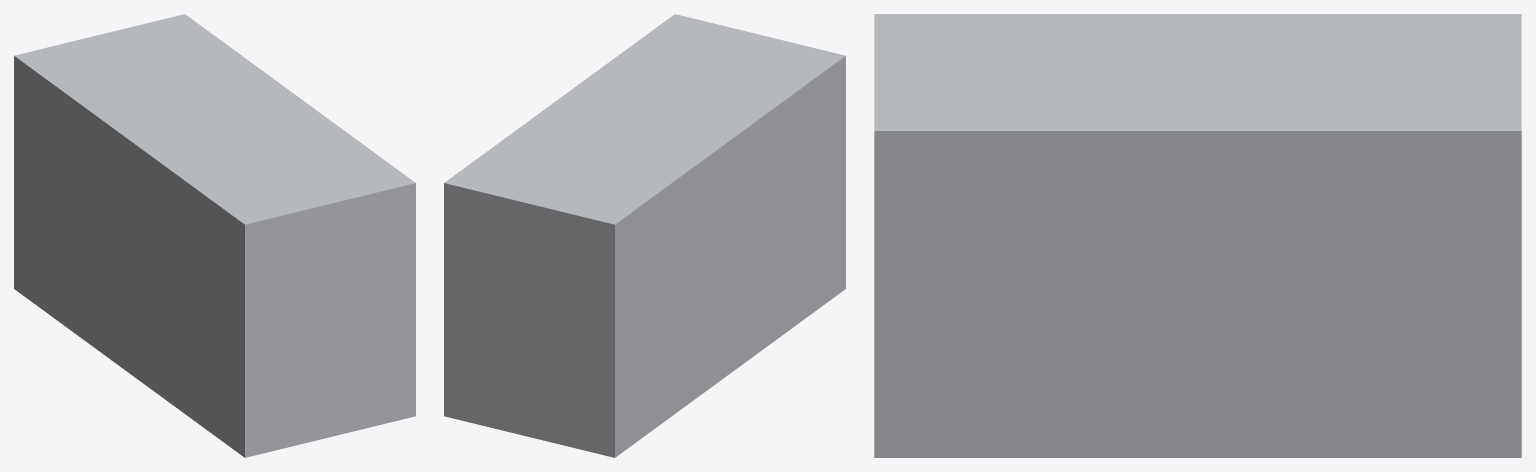
Rendered from SM_UI_LevelPath_01.fbx.
3 views of the same model, side by side, from view 1: azimuth 30°, elevation 25°; view 2: azimuth 150°, elevation 25°; view 3: azimuth 270°, elevation 25° (orthographic). The views are drawn at different scales.
Visible parts, largest first — view 1: SM_UI_LevelPath_01; view 2: SM_UI_LevelPath_01; view 3: SM_UI_LevelPath_01.
Part boxes in pixels (box(x1,y1,x2,y2)): SM_UI_LevelPath_01: box(14, 14, 415, 457); SM_UI_LevelPath_01: box(444, 14, 845, 457); SM_UI_LevelPath_01: box(874, 14, 1521, 457).
Bounding box in the file's own units: 19.89 × 25.93 × 46.55.
Materials: 1 (1 with a texture image).
